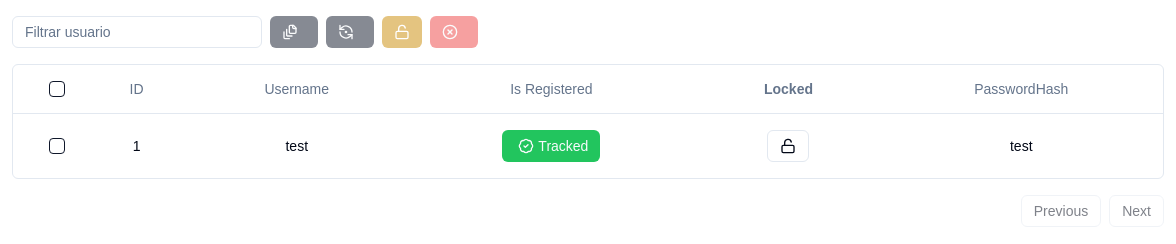
Test: UserTable render state › should enabled loack and remove button when a unlocked user is selected
Expected: the button with test id "lock-unlock-button" is disabled, x1=382 y1=16 x2=422 y2=48
Expected: the button with test id "remove-user-button" is disabled, x1=430 y1=16 x2=478 y2=48
Click the checkbox named "Select row".
click(57, 146)  # box x1=49 y1=138 x2=65 y2=154
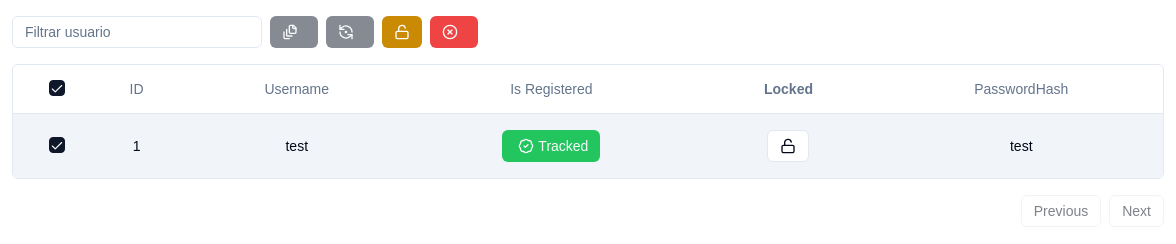
Expected: the button with test id "lock-unlock-button" is enabled, x1=382 y1=16 x2=422 y2=48
Expected: the button with test id "remove-user-button" is enabled, x1=430 y1=16 x2=478 y2=48
